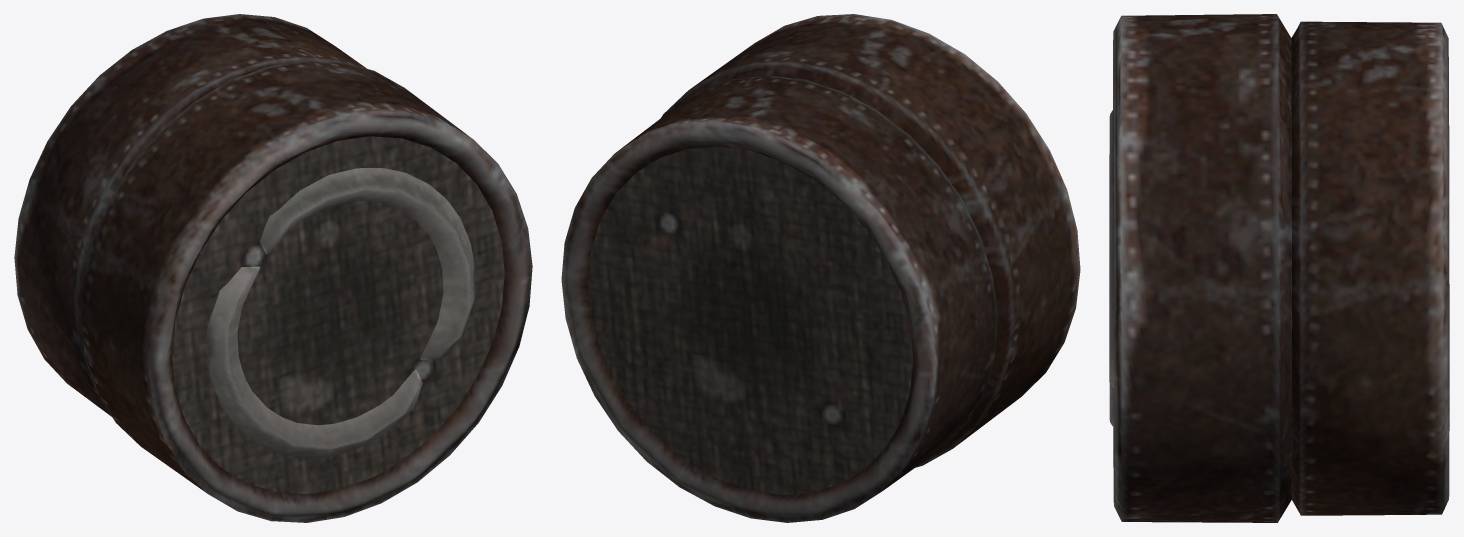
The model's file is cannon_wheel_rear.glb.
3 views of the same model, side by side, from view 1: azimuth 30°, elevation 25°; view 2: azimuth 150°, elevation 25°; view 3: azimuth 270°, elevation 25° (orthographic). The views are drawn at different scales.
Parts seen in each view (by area): view 1: cannon_cannons_0.001; view 2: cannon_cannons_0.001; view 3: cannon_cannons_0.001.
Boxes of the visible parts, x1=… form: cannon_cannons_0.001: x1=14, y1=14, x2=532, y2=522; cannon_cannons_0.001: x1=561, y1=14, x2=1080, y2=522; cannon_cannons_0.001: x1=1109, y1=14, x2=1449, y2=522.
Bounding box in the file's own units: 0.5501 × 0.5501 × 0.3677.
1 material, 1 textured.
